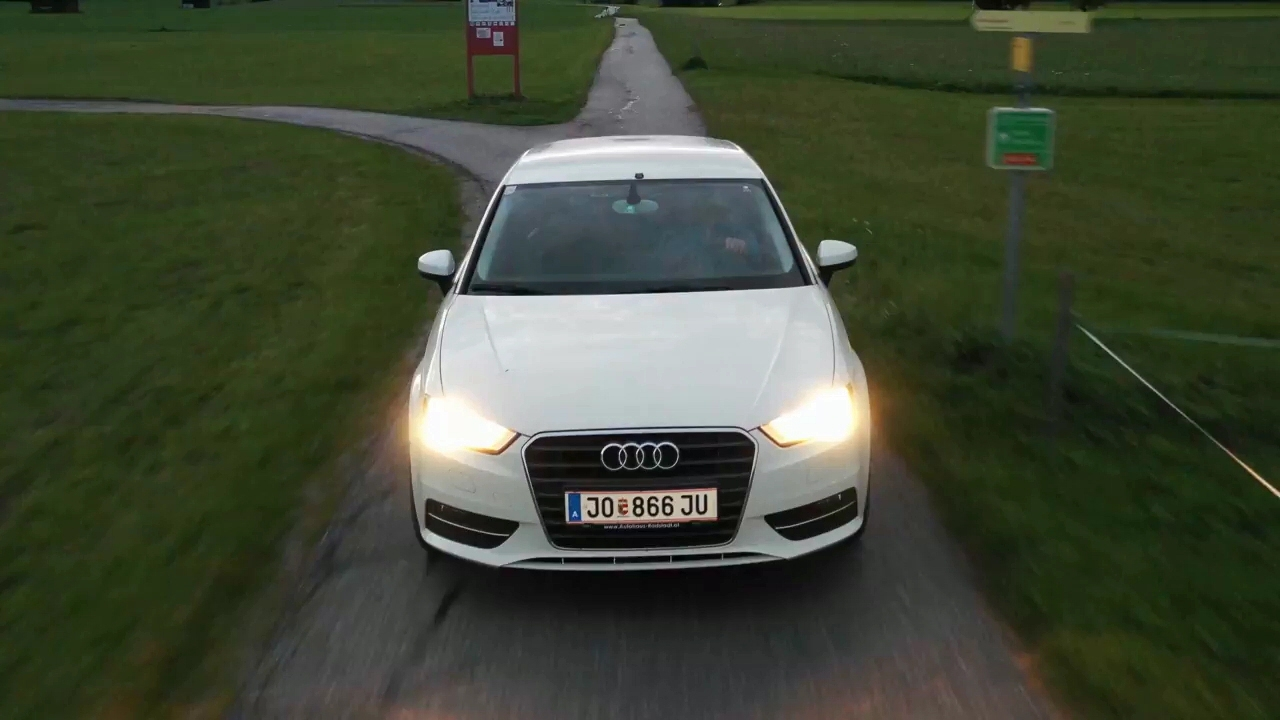araba: (393, 134, 873, 567)
